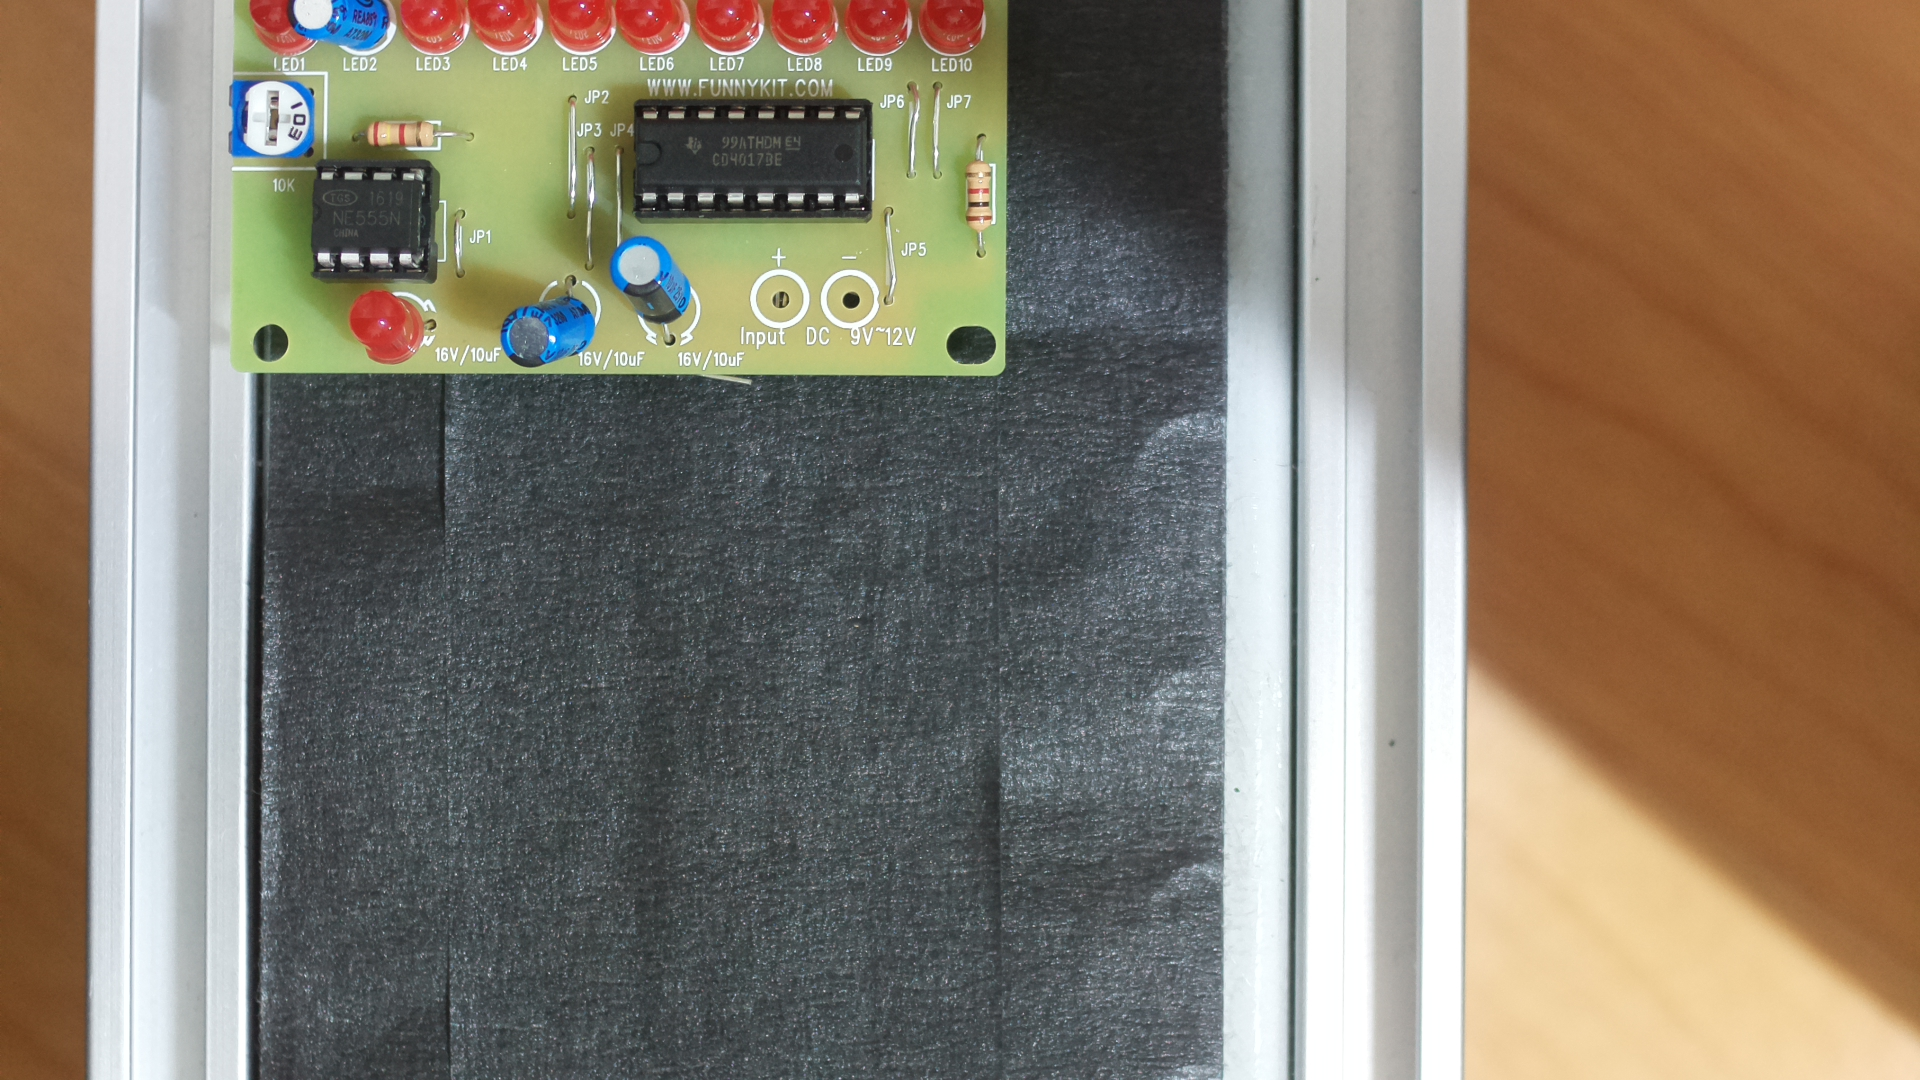B_Misordered: (219, 0, 1022, 388)
